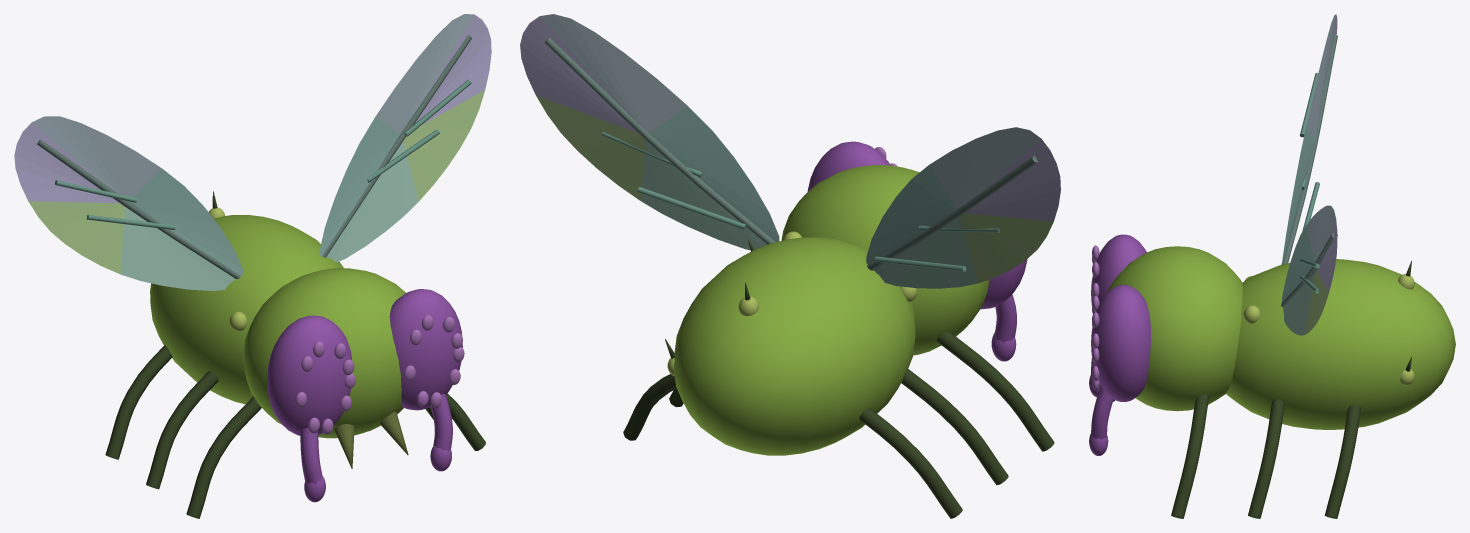
Rendered from venomite.glb.
The picture shows the model from 3 angles, left to right: view 1: azimuth 30°, elevation 25°; view 2: azimuth 150°, elevation 25°; view 3: azimuth 270°, elevation 25°; orthographic projection. The views are drawn at different scales.
Visible parts, largest first — view 1: form_757, form_758, form_759, form_808, curve_773, curve_772, curve_771, curve_807, curve_856, surface_801, surface_800, curve_769 (+51 smaller); view 2: form_757, form_758, curve_773, curve_772, curve_856, curve_771, form_808, curve_807, curve_820, surface_825, surface_826, surface_830 (+54 smaller); view 3: form_757, form_758, form_808, curve_822, form_759, curve_821, curve_820, curve_807, curve_818.
Part boxes in pixels (x1,y1,x2,y2): form_757: (150, 215, 343, 404); form_758: (243, 268, 405, 438); form_759: (267, 315, 351, 435); form_808: (389, 289, 462, 410); curve_773: (186, 396, 261, 518); curve_772: (146, 371, 218, 489); curve_771: (105, 345, 172, 459); curve_807: (37, 139, 240, 278); curve_856: (322, 35, 471, 257); surface_801: (131, 211, 212, 290); surface_800: (128, 209, 188, 289); curve_769: (300, 427, 322, 484); form_757: (674, 237, 915, 455); form_758: (781, 165, 989, 355); curve_773: (936, 332, 1054, 451); curve_772: (901, 369, 1008, 485); curve_856: (544, 37, 775, 244); curve_771: (859, 407, 962, 518); form_808: (807, 141, 890, 191); curve_807: (867, 155, 1037, 270); curve_820: (623, 374, 676, 440); surface_825: (658, 141, 769, 212); surface_826: (654, 138, 753, 185); surface_830: (625, 53, 656, 131); form_757: (1226, 259, 1455, 429); form_758: (1106, 246, 1242, 411); form_808: (1091, 285, 1151, 401); curve_822: (1171, 394, 1209, 518); form_759: (1091, 234, 1146, 304); curve_821: (1248, 399, 1284, 518); curve_820: (1324, 404, 1360, 518); curve_807: (1281, 34, 1337, 264); curve_818: (1091, 385, 1113, 439).
Size of the model in its own units: 0.4163 by 0.3 by 0.2924.
